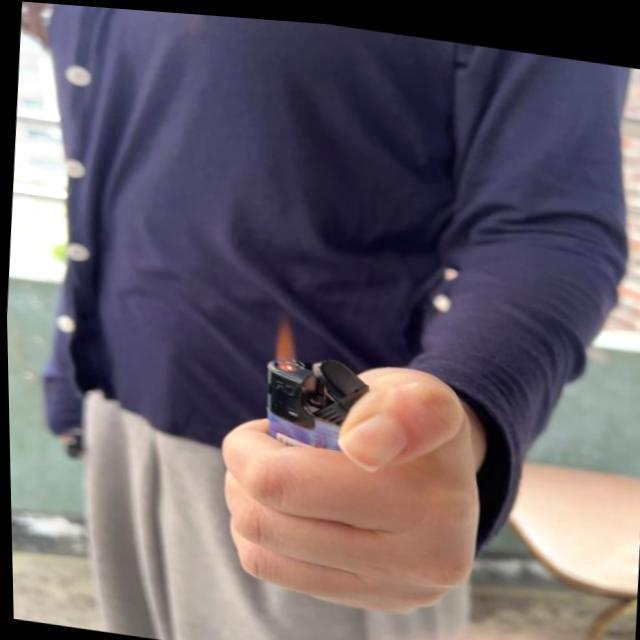fire: (268, 306, 304, 370)
